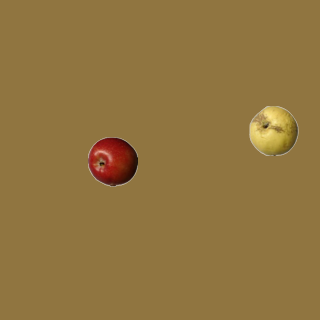Apple Braeburn: (87, 136, 137, 186)
Apple Golden 1: (248, 105, 298, 155)
